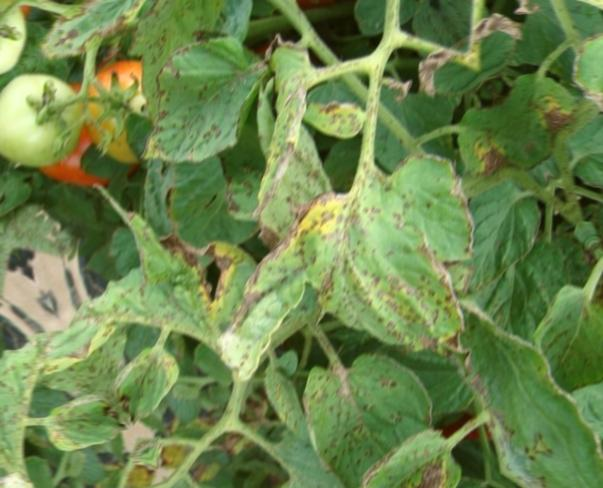Tomato leaf bacterial spot: (168, 94, 537, 442), (97, 6, 311, 203), (264, 308, 470, 488), (49, 217, 242, 397), (422, 277, 586, 465), (292, 403, 485, 488), (94, 332, 193, 428)
